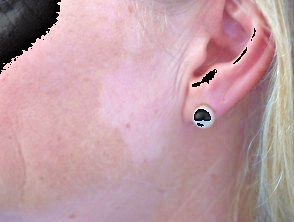vitiligo: (0, 0, 262, 222)
